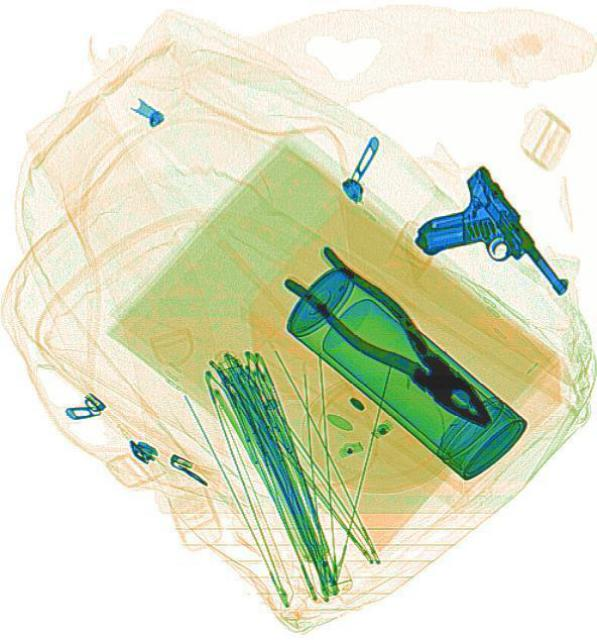Gun: (398, 162, 573, 346)
Pliers: (278, 236, 513, 448)
